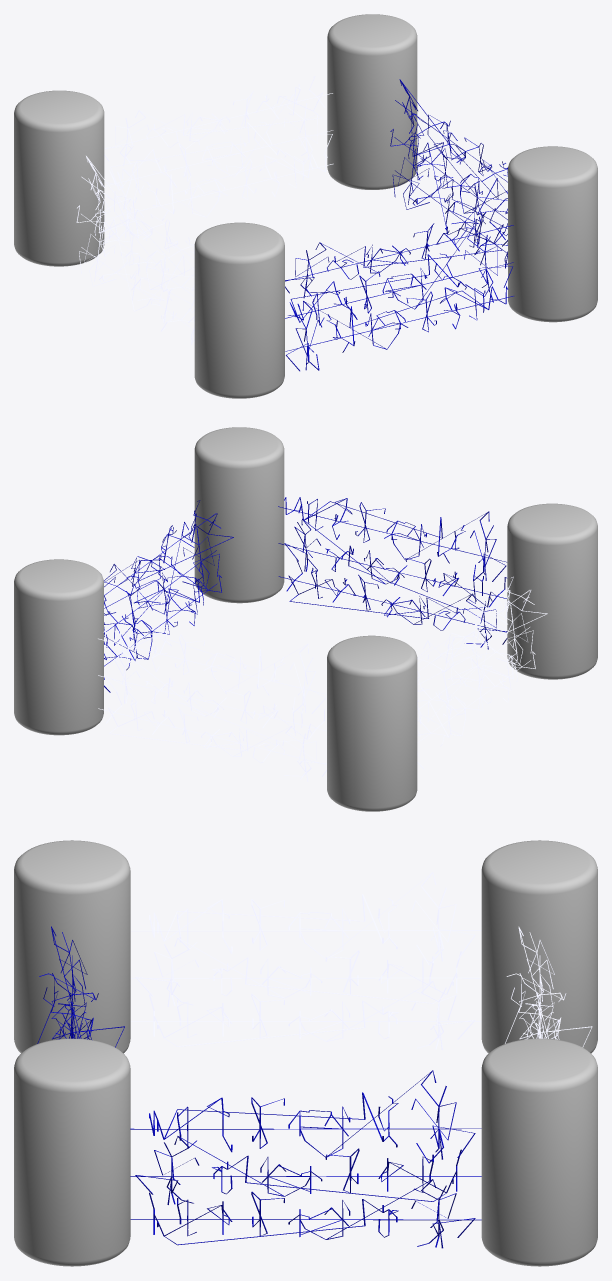
The model's file is bezel_15fc770a.gltf.
The picture shows the model from 3 angles, top to bottom: view 1: azimuth 30°, elevation 25°; view 2: azimuth 150°, elevation 25°; view 3: azimuth 270°, elevation 25°; orthographic projection. The views are drawn at different scales.
Parts seen in each view (by area): view 1: BEF_Frame_1 (×4), BEF_Frame_2 (×4), BezierCurve003 (×4), BezierCurve001 (×4), BezierCurve002 (×4); view 2: BEF_Frame_1 (×4), BEF_Frame_2 (×4), BezierCurve002 (×4), BezierCurve001 (×4), BezierCurve003 (×4); view 3: BEF_Frame_2 (×4), BEF_Frame_1 (×4), BezierCurve002 (×4), BezierCurve001 (×2), BezierCurve003 (×2).
Part boxes in pixels (x1=…): BEF_Frame_1 (×4): x1=194, y1=15, x2=597, y2=398; BEF_Frame_2 (×4): x1=14, y1=14, x2=417, y2=393; BezierCurve003 (×4): x1=79, y1=142, x2=513, y2=371; BezierCurve001 (×4): x1=76, y1=94, x2=513, y2=325; BezierCurve002 (×4): x1=81, y1=76, x2=513, y2=298; BEF_Frame_1 (×4): x1=21, y1=427, x2=597, y2=735; BEF_Frame_2 (×4): x1=14, y1=503, x2=586, y2=811; BezierCurve002 (×4): x1=98, y1=497, x2=547, y2=713; BezierCurve001 (×4): x1=98, y1=518, x2=533, y2=741; BezierCurve003 (×4): x1=98, y1=559, x2=535, y2=781; BEF_Frame_2 (×4): x1=15, y1=840, x2=597, y2=1266; BEF_Frame_1 (×4): x1=14, y1=840, x2=597, y2=1266; BezierCurve002 (×4): x1=37, y1=872, x2=566, y2=1163; BezierCurve001 (×2): x1=130, y1=937, x2=481, y2=1204; BezierCurve003 (×2): x1=130, y1=981, x2=481, y2=1248.
Size of the model in its own units: 1007 by 359 by 1005.
